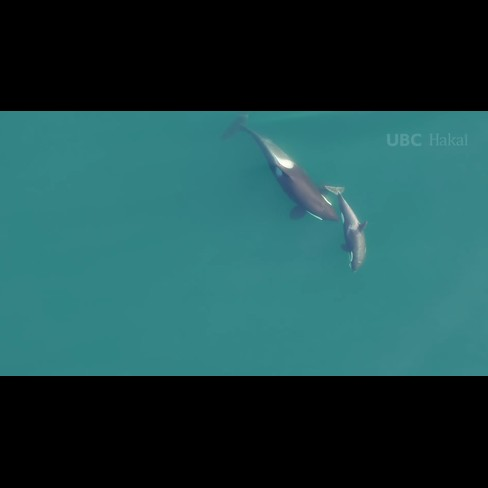orca: (220, 111, 344, 231), (323, 180, 377, 279)
